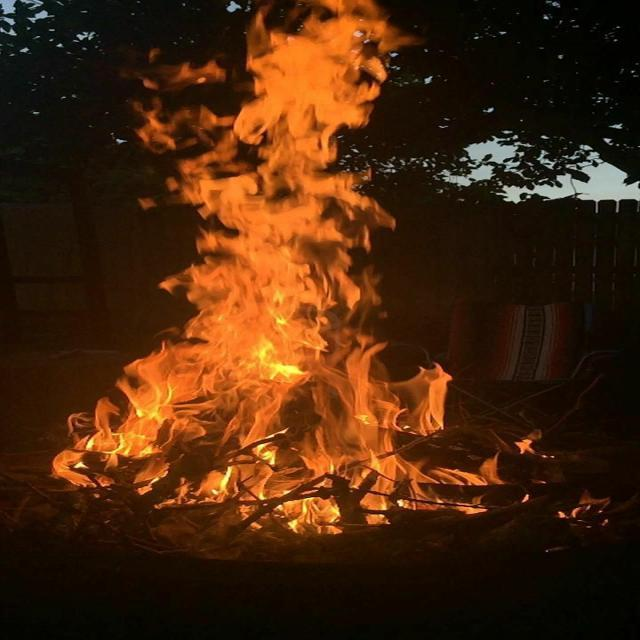Fire: (49, 2, 508, 516)
